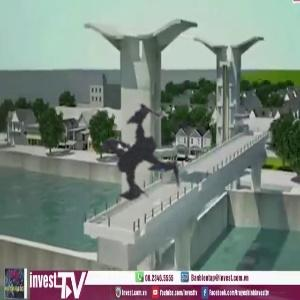drone: (11, 19, 284, 292)
